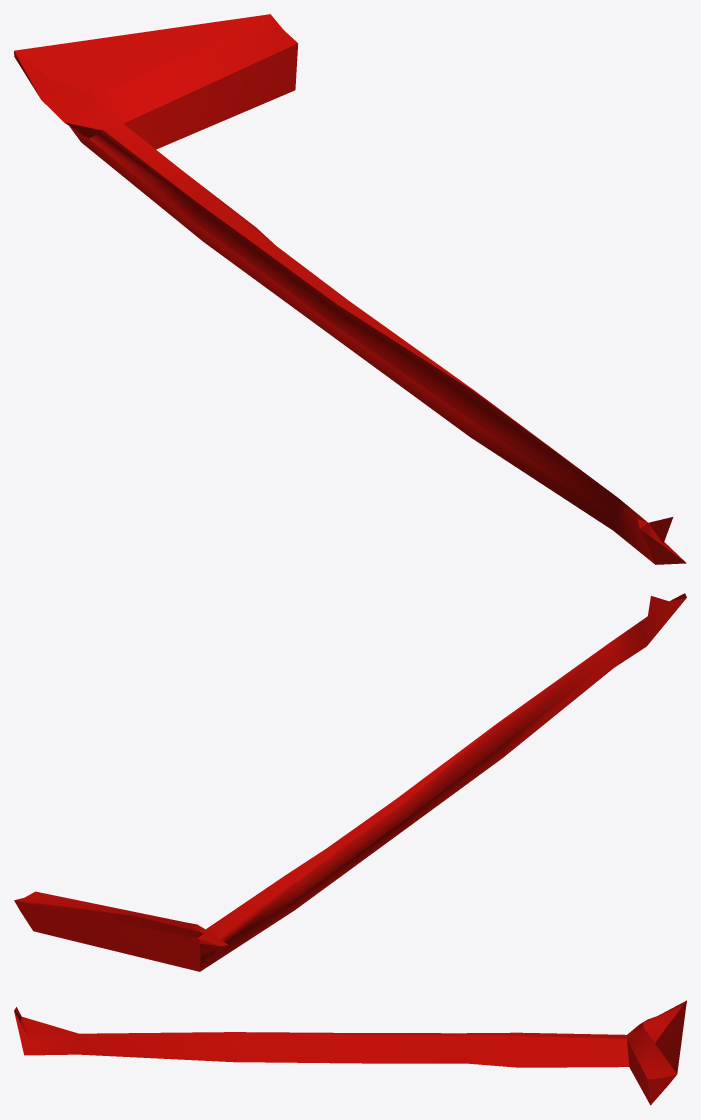
Rendered from Classic_2_Sidepanel_2_R.fbx.
3 views of the same model, one above another, from view 1: azimuth 30°, elevation 25°; view 2: azimuth 150°, elevation 25°; view 3: azimuth 270°, elevation 25° (orthographic). The views are drawn at different scales.
Parts seen in each view (by area): view 1: Classic_2_Sidepanel_2_R; view 2: Classic_2_Sidepanel_2_R; view 3: Classic_2_Sidepanel_2_R.
Part boxes in pixels (left/top/right/bottom): Classic_2_Sidepanel_2_R: left=14, top=14, right=686, bottom=564; Classic_2_Sidepanel_2_R: left=14, top=593, right=686, bottom=971; Classic_2_Sidepanel_2_R: left=14, top=1000, right=686, bottom=1105.
Size of the model in its own units: 69.97 by 22.99 by 306.
